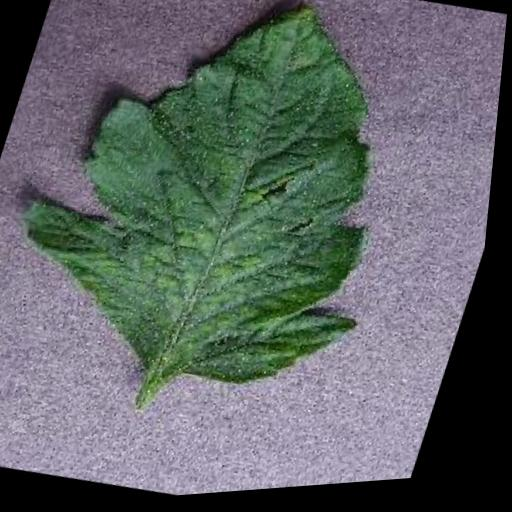Mosaic Virus: (0, 0, 459, 429)
